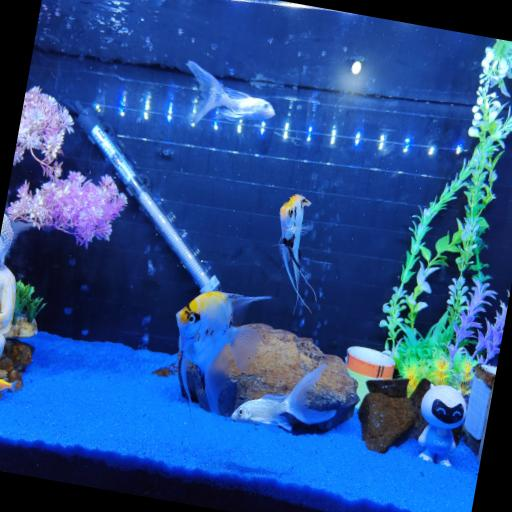Fish: (176, 291, 269, 416), (231, 365, 335, 431), (186, 61, 274, 123), (279, 194, 315, 311), (0, 380, 16, 391)
